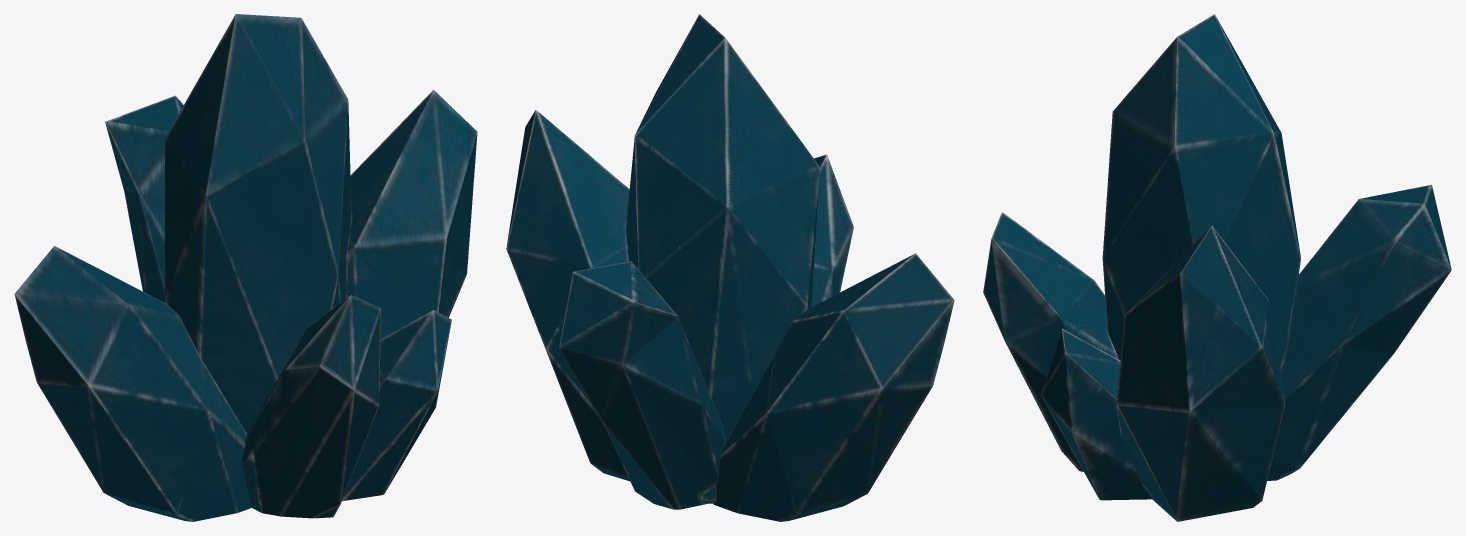
Rendered from Cristales.obj.
3 views of the same model, side by side, from view 1: azimuth 30°, elevation 25°; view 2: azimuth 150°, elevation 25°; view 3: azimuth 270°, elevation 25° (orthographic). The views are drawn at different scales.
Parts seen in each view (by area): view 1: crystals; view 2: crystals; view 3: crystals.
Boxes of the visible parts, box(x1,y1,x2,y2) form: crystals: box(14, 14, 477, 521); crystals: box(506, 14, 954, 521); crystals: box(983, 14, 1451, 521).
Size of the model in its own units: 5.05 by 4.9 by 4.69.
Materials: 1 (1 with a texture image).
